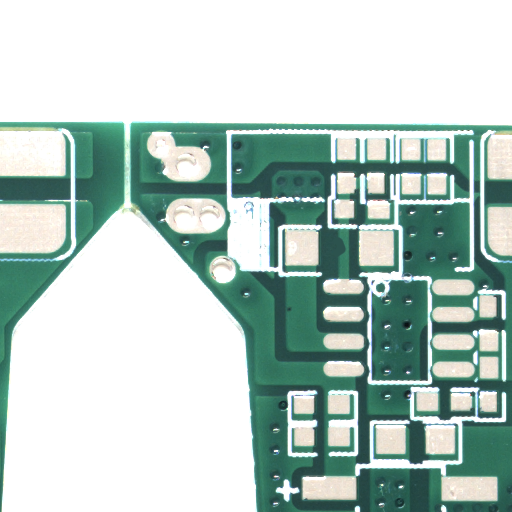Mouse_bite: (340, 248, 350, 269)
